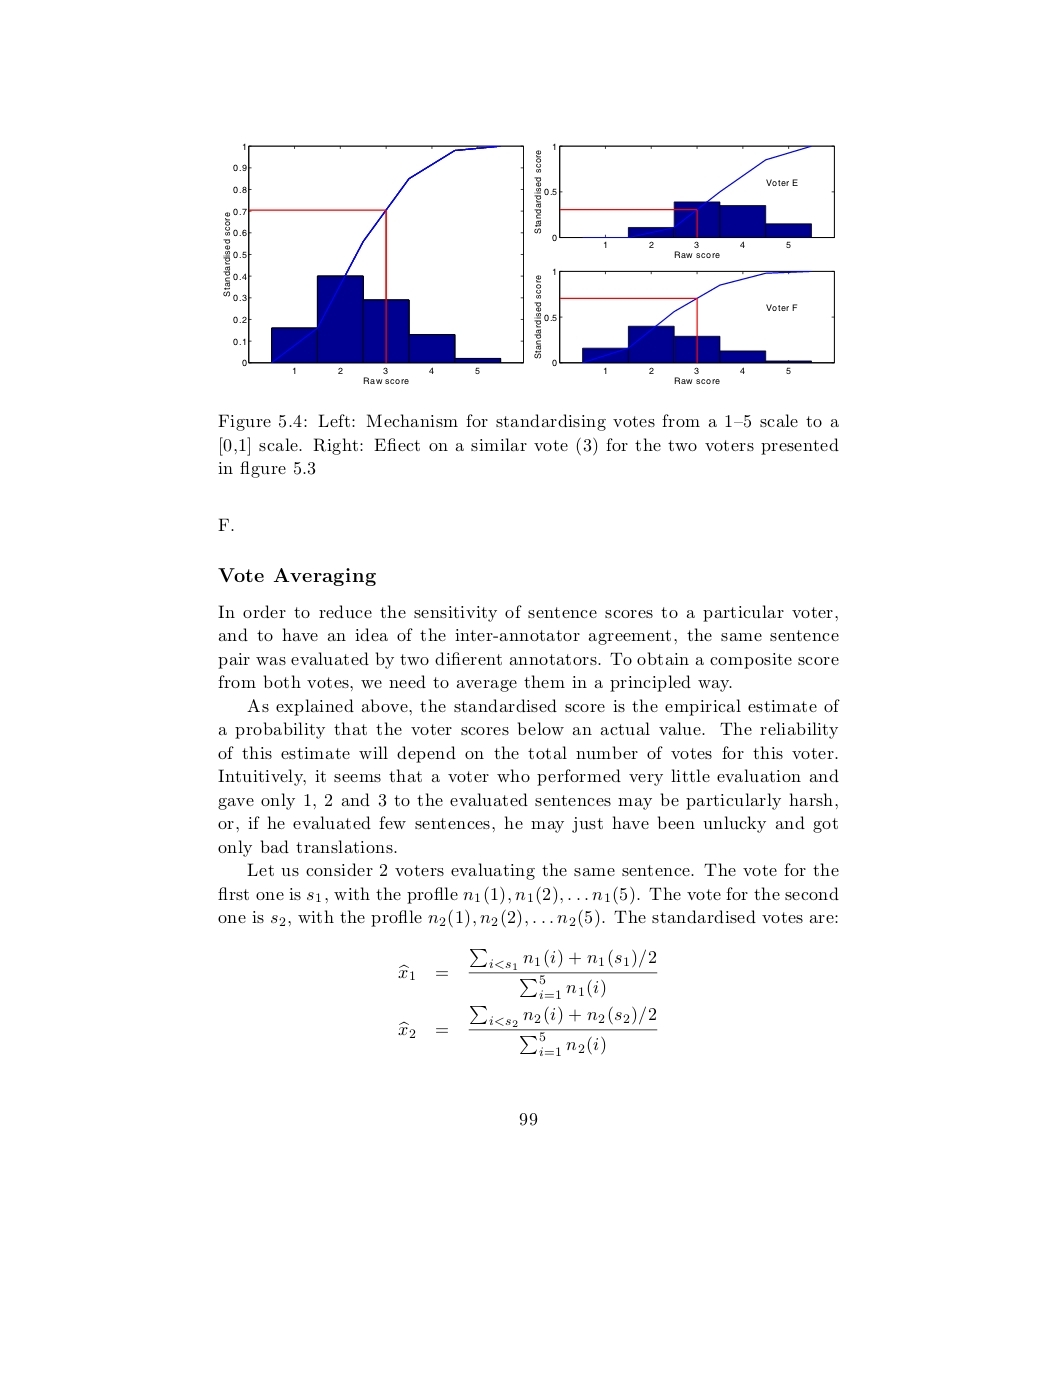figure: (223, 142, 523, 384), (534, 142, 834, 259), (534, 267, 834, 384)
formula: (398, 1005, 658, 1056), (398, 948, 658, 999)
